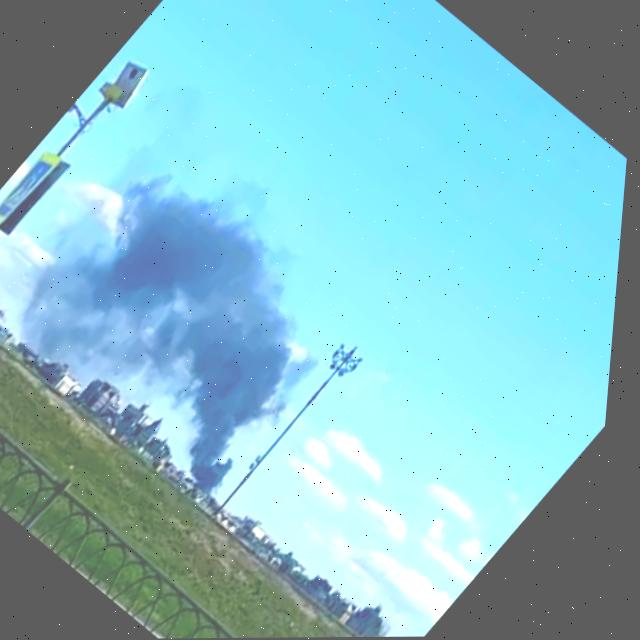Smoke: (0, 123, 406, 503)
